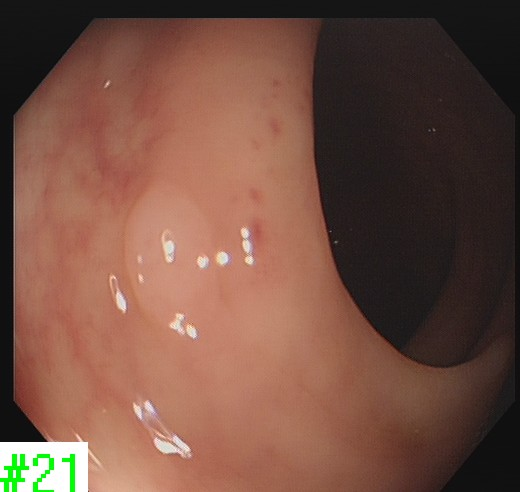others: (121, 175, 223, 339)
